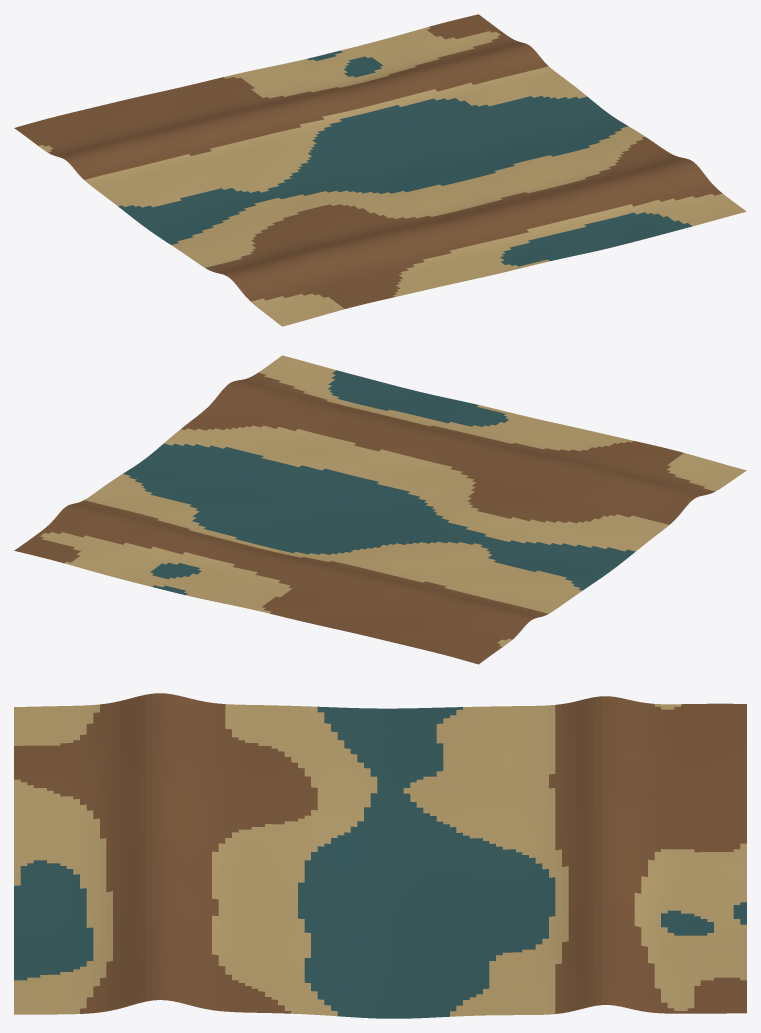
The model's file is harbor_breakwater_112.obj.
3 views of the same model, one above another, from view 1: azimuth 30°, elevation 25°; view 2: azimuth 150°, elevation 25°; view 3: azimuth 270°, elevation 25° (orthographic). The views are drawn at different scales.
Bounding box in the file's own units: 222 × 7.23 × 222.
